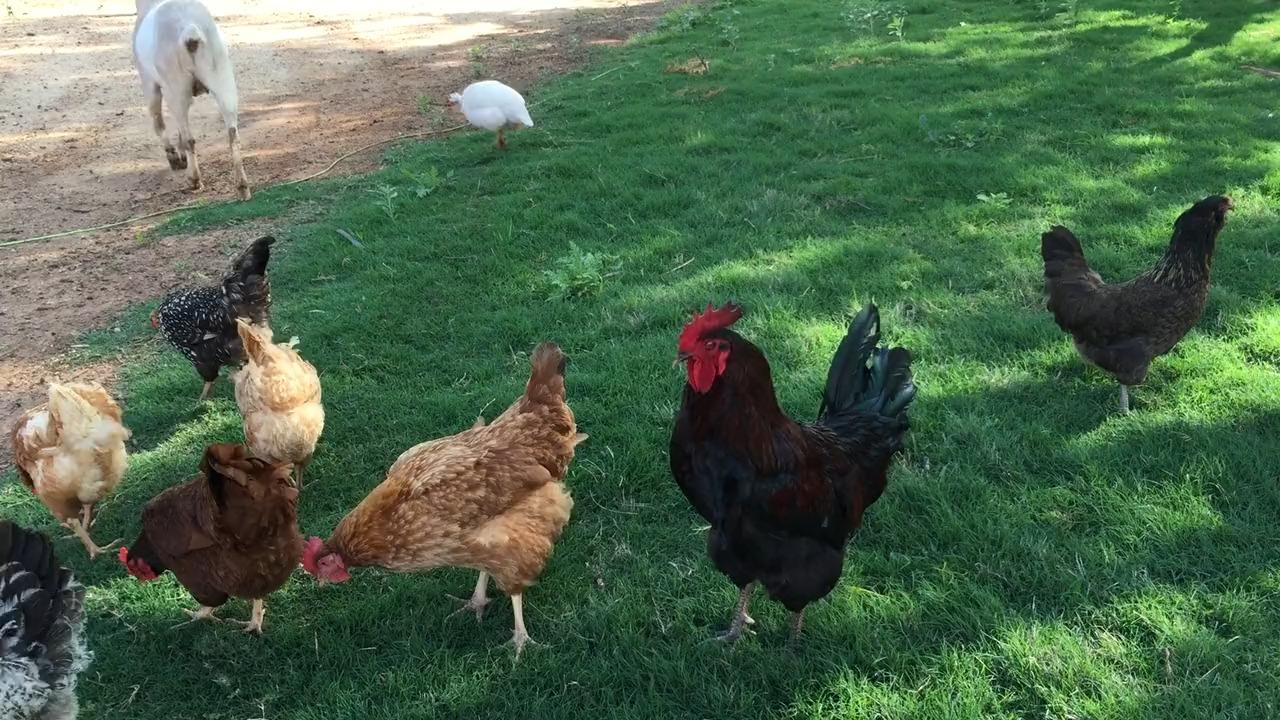Normal: (667, 303, 921, 648), (303, 422, 581, 651), (1046, 187, 1235, 413), (115, 453, 310, 635), (146, 257, 273, 404)
